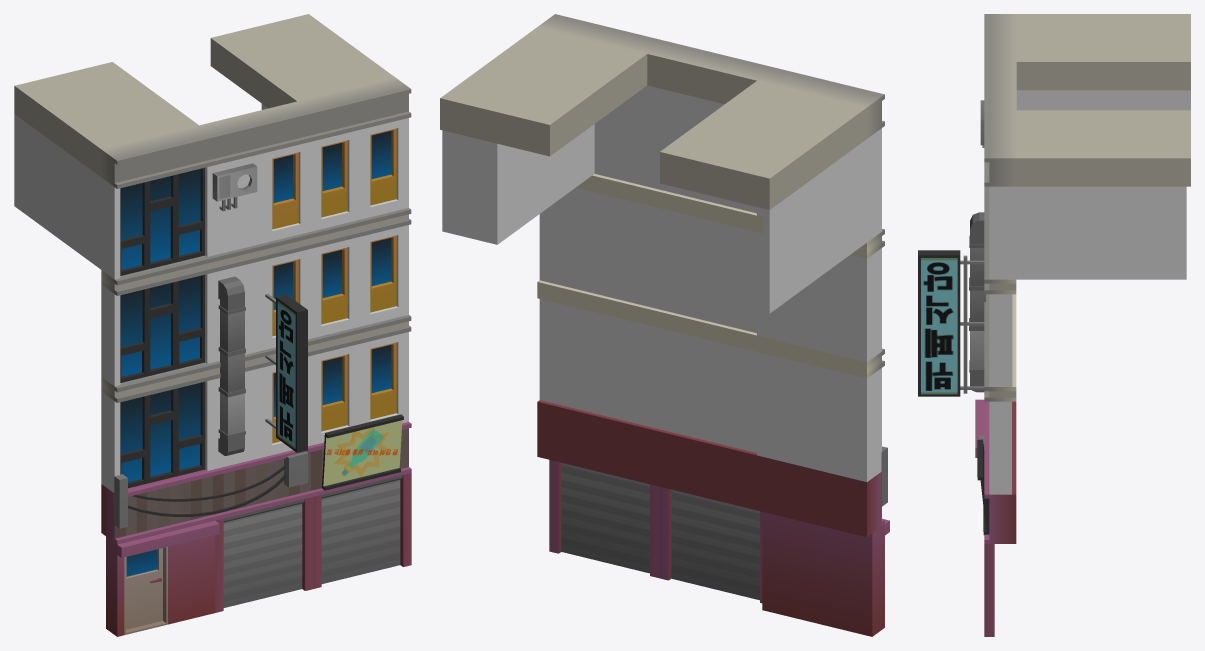
Rendered from B02_Facade_05_B.fbx.
The picture shows the model from 3 angles, left to right: view 1: azimuth 30°, elevation 25°; view 2: azimuth 150°, elevation 25°; view 3: azimuth 270°, elevation 25°; orthographic projection. The views are drawn at different scales.
Parts seen in each view (by area): view 1: B02_Facade_05_B; view 2: B02_Facade_05_B; view 3: B02_Facade_05_B.
Part boxes in pixels (x1=…): B02_Facade_05_B: x1=14, y1=14, x2=411, y2=636; B02_Facade_05_B: x1=440, y1=14, x2=889, y2=636; B02_Facade_05_B: x1=918, y1=14, x2=1190, y2=636.
Size of the model in its own units: 1501 by 2319 by 1198.
